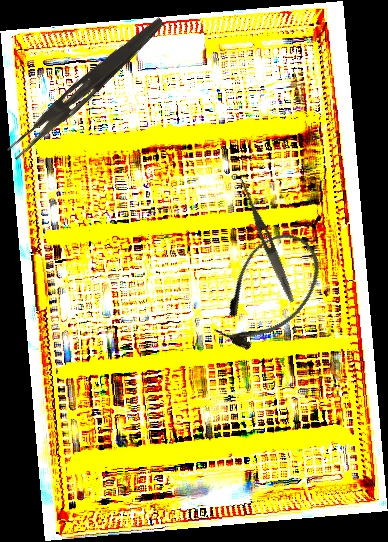Cannula: (199, 218, 337, 366)
Dressing Forceps: (6, 9, 167, 166), (235, 177, 298, 304)
